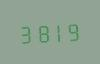eight: (34, 20, 49, 44)
nine: (66, 19, 81, 42)
one: (50, 19, 65, 43)
three: (18, 21, 33, 44)
